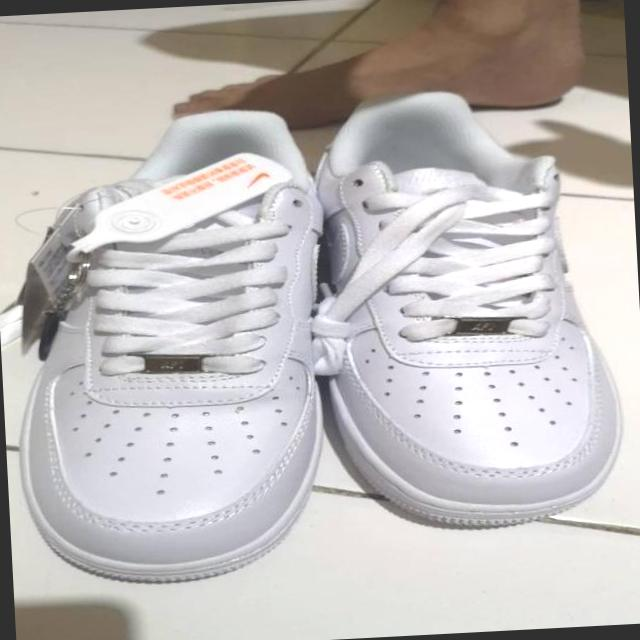nike_original_airforce: (282, 74, 634, 540), (0, 105, 333, 595)
